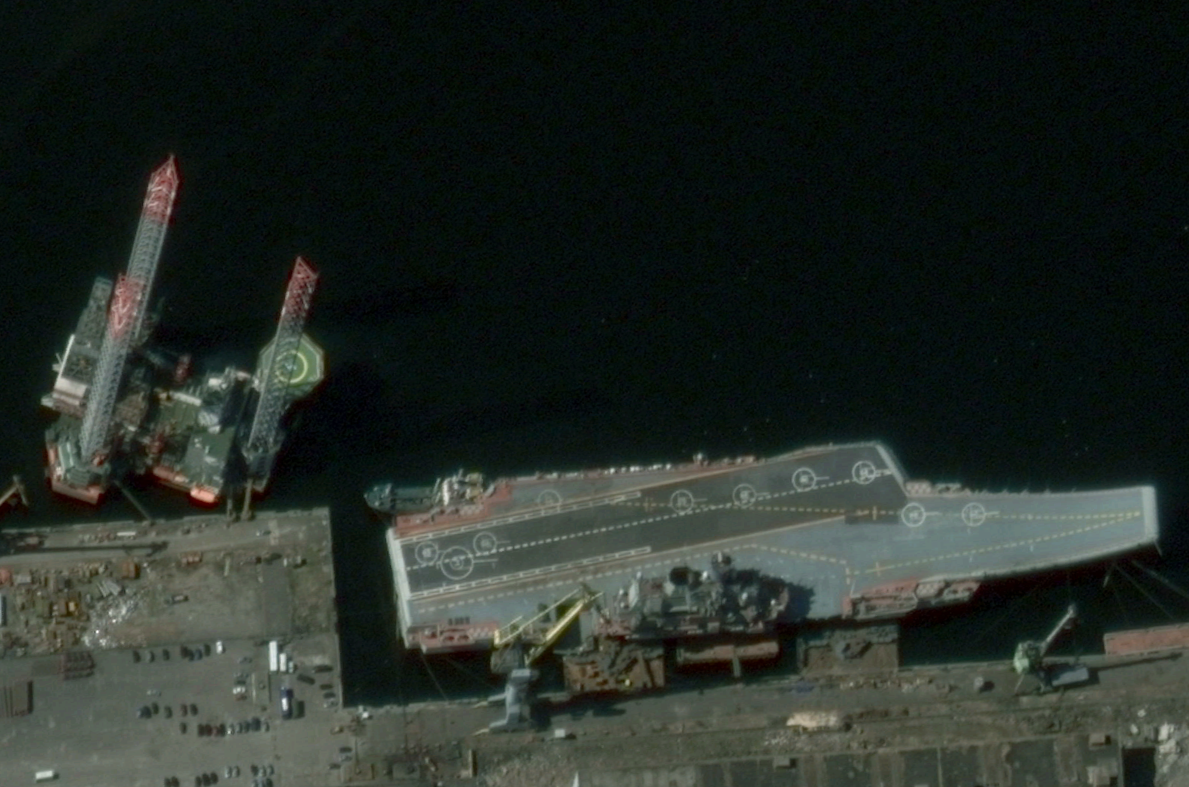aircraft carrier: (380, 439, 1165, 657)
